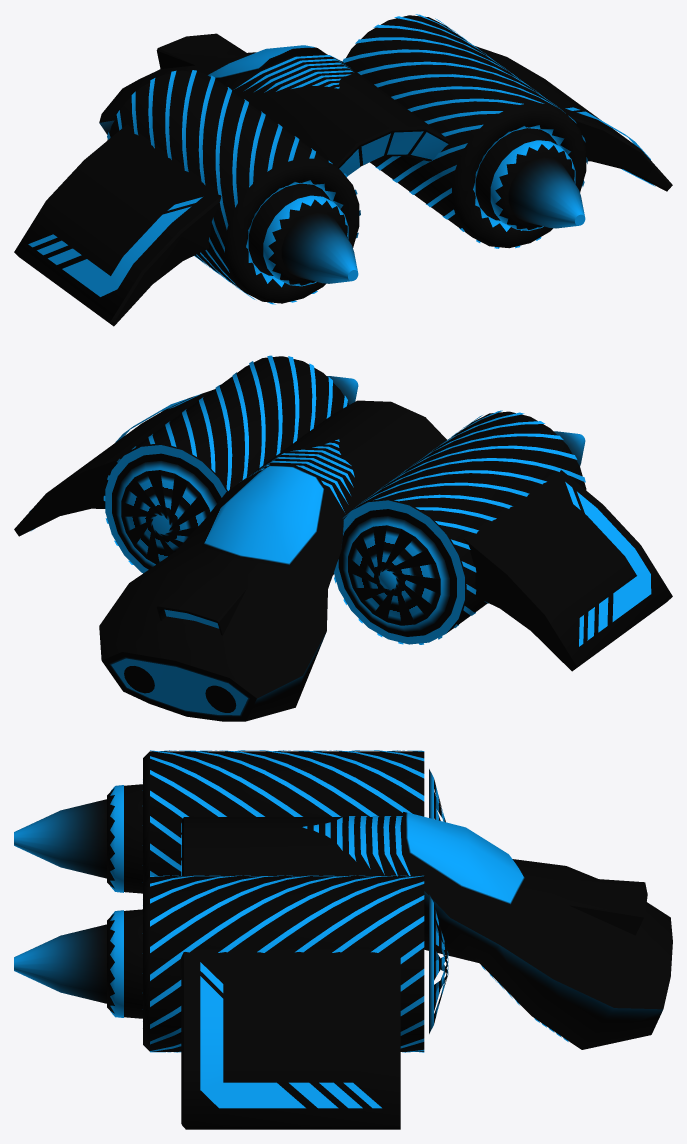
File: Vaisseau.FBX
The picture shows the model from 3 angles, top to bottom: view 1: azimuth 30°, elevation 25°; view 2: azimuth 150°, elevation 25°; view 3: azimuth 270°, elevation 25°; orthographic projection. The views are drawn at different scales.
Visible parts, largest first — view 1: Vaisseau; view 2: Vaisseau; view 3: Vaisseau.
Part boxes in pixels (x1,y1,x2,y2): Vaisseau: [14, 14, 672, 326]; Vaisseau: [14, 355, 672, 721]; Vaisseau: [14, 750, 672, 1129].
Bounding box in the file's own units: 44.67 × 13.9 × 40.06.
1 material, 1 textured.
